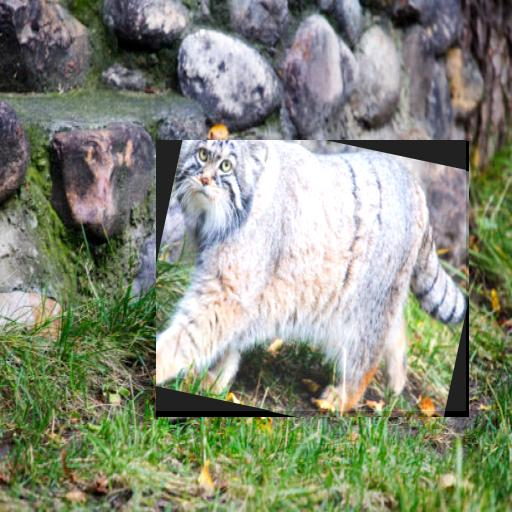manul: (156, 141, 466, 411)
